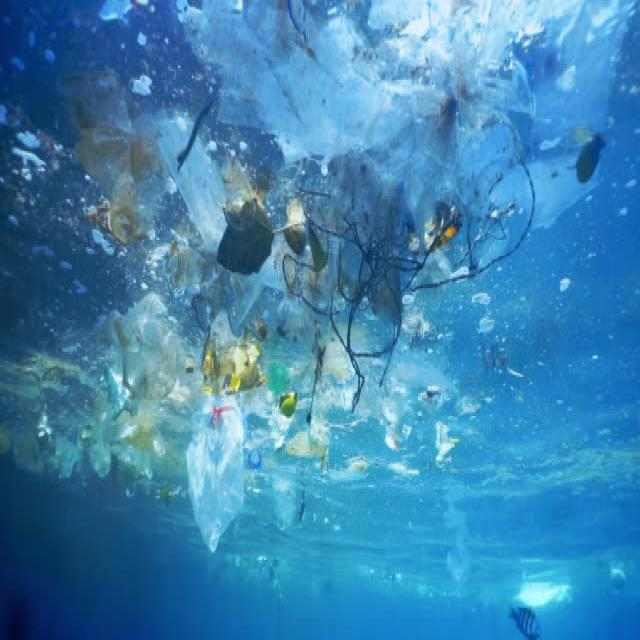plastic: (34, 96, 282, 544)
